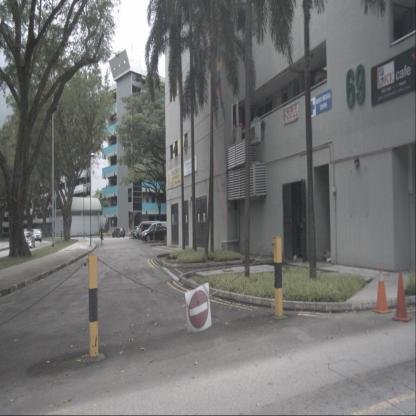human-pedestrian-adult: (100, 227, 104, 246)
movable_object-trafficcone: (392, 270, 412, 322), (372, 268, 392, 314)
vehicle-car: (142, 222, 167, 240), (137, 220, 160, 239), (143, 226, 171, 241), (20, 231, 35, 248), (130, 226, 144, 237), (111, 227, 125, 238), (33, 230, 42, 242)
